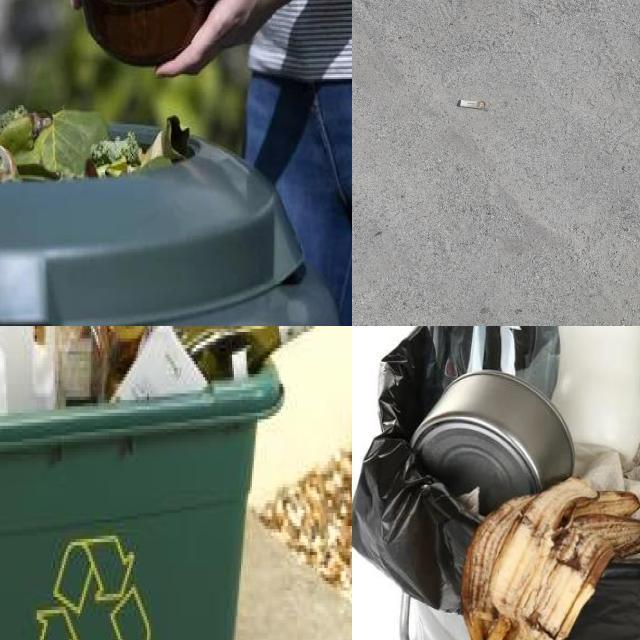Background: (352, 0, 640, 326)
Cig_bud: (458, 100, 485, 109)
Garbage: (352, 326, 573, 612), (461, 477, 640, 640), (0, 117, 201, 197), (552, 326, 640, 460)
Glass_bottle: (175, 326, 313, 381)
Metal: (411, 371, 575, 515)
Plastic: (0, 326, 57, 412)
Plastic_bottle: (552, 326, 640, 461), (428, 326, 558, 396), (430, 326, 558, 397), (58, 326, 108, 406)
can: (104, 326, 147, 396)
contaminated_waste: (553, 326, 640, 461)
